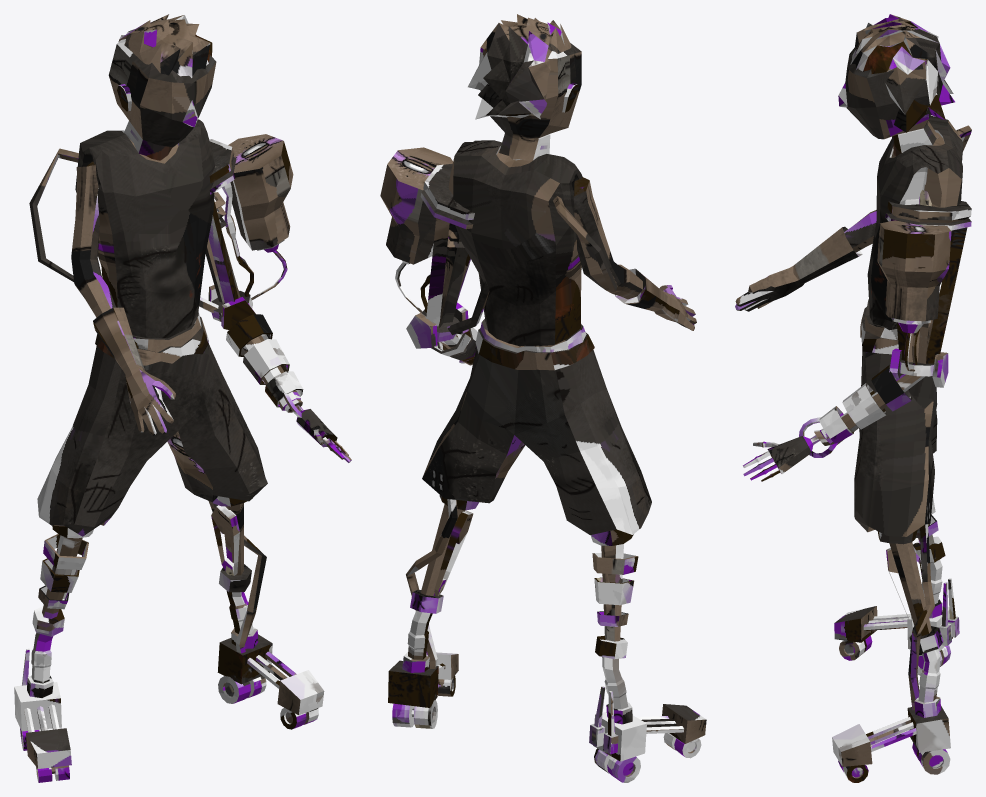
Rendered from CyborgFINALAnimation_000031.obj.
The picture shows the model from 3 angles, left to right: view 1: azimuth 30°, elevation 25°; view 2: azimuth 150°, elevation 25°; view 3: azimuth 270°, elevation 25°; orthographic projection. The views are drawn at different scales.
Parts seen in each view (by area): view 1: CyborgMesh_Cube.002; view 2: CyborgMesh_Cube.002; view 3: CyborgMesh_Cube.002.
Boxes of the visible parts, left/top/right/bottom form: CyborgMesh_Cube.002: left=14, top=14, right=351, bottom=782; CyborgMesh_Cube.002: left=380, top=14, right=706, bottom=782; CyborgMesh_Cube.002: left=735, top=14, right=971, bottom=782.
Bounding box in the file's own units: 4.02 × 9.65 × 2.95.
